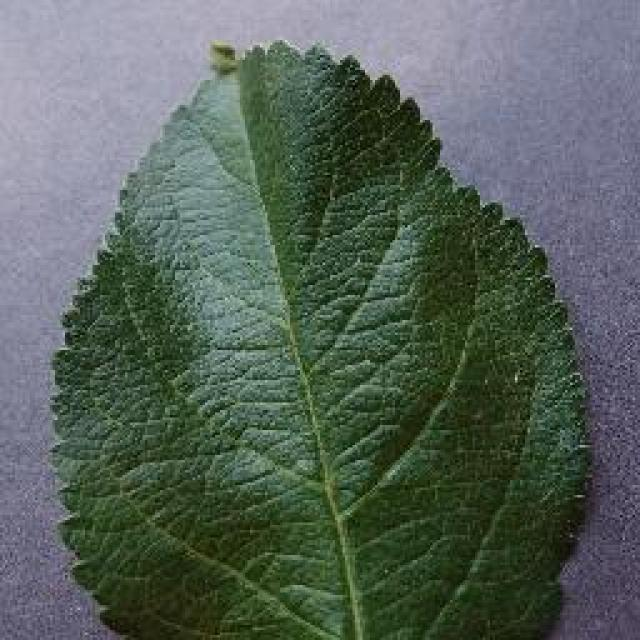apple healthy: (45, 35, 597, 637)
